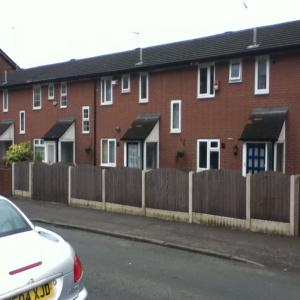Vehicle-registration-plate: (2, 283, 56, 300)
